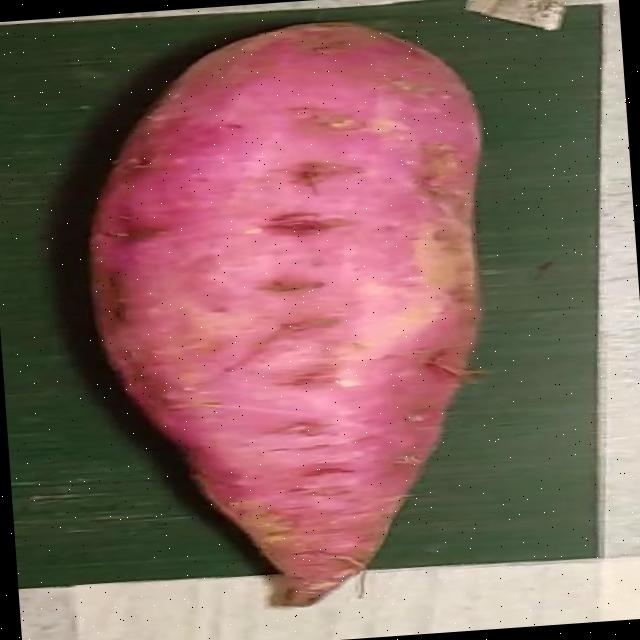Sweet Potato: (87, 22, 483, 609)
